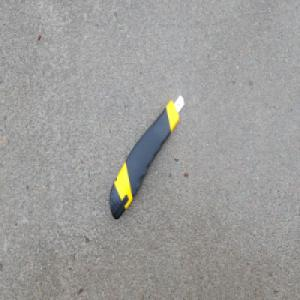Cutter: (108, 93, 184, 221)
